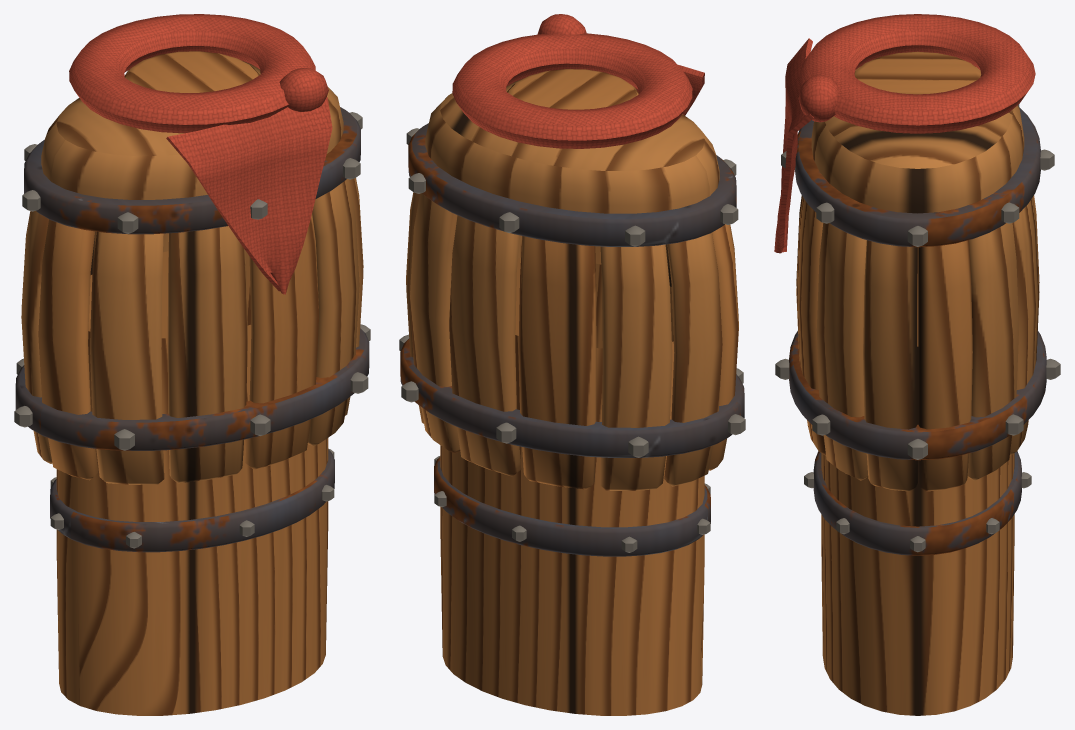
File: Torso.glb
The picture shows the model from 3 angles, left to right: view 1: azimuth 30°, elevation 25°; view 2: azimuth 150°, elevation 25°; view 3: azimuth 270°, elevation 25°; orthographic projection. The views are drawn at different scales.
Visible parts, largest first — view 1: Torso, Scarf; view 2: Torso, Scarf; view 3: Torso, Scarf.
Boxes of the visible parts, x1=… form: Torso: x1=14, y1=51, x2=370, y2=715; Scarf: x1=69, y1=14, x2=332, y2=294; Torso: x1=399, y1=69, x2=745, y2=715; Scarf: x1=452, y1=14, x2=704, y2=148; Torso: x1=775, y1=51, x2=1060, y2=715; Scarf: x1=774, y1=14, x2=1035, y2=253.
Bounding box in the file's own units: 0.4377 × 0.7405 × 0.3161.
6 materials, 5 textured.
